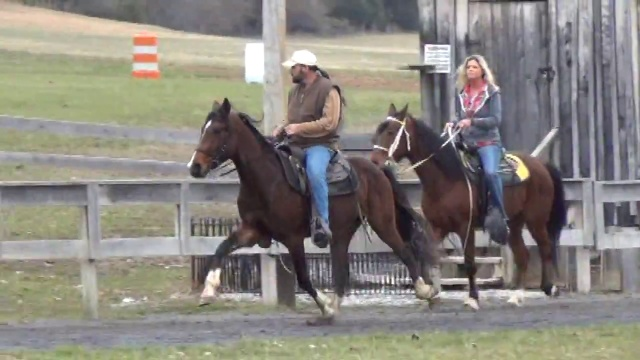person: (272, 40, 346, 273), (451, 54, 511, 241)
